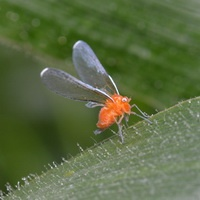insect: (40, 40, 151, 142)
